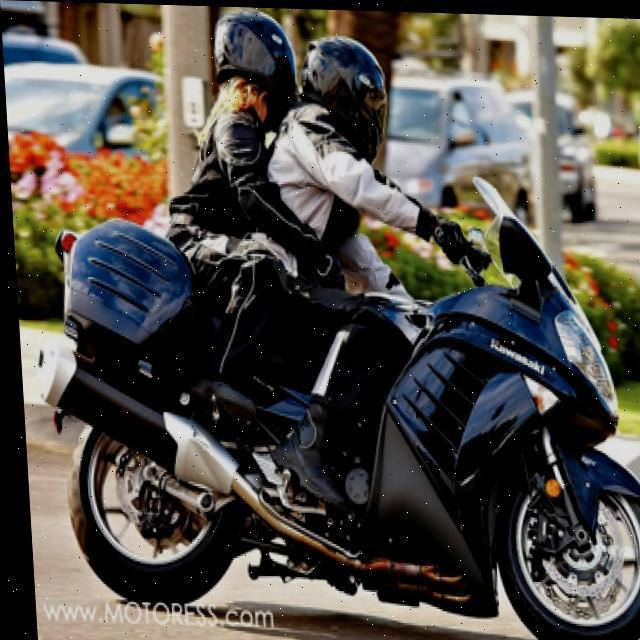Helmet: (302, 22, 394, 166), (212, 12, 296, 121)
